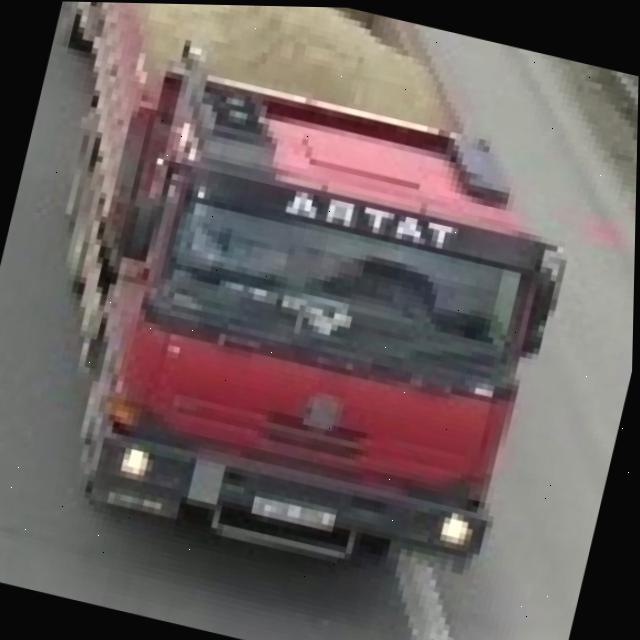truck: (0, 0, 606, 612)
